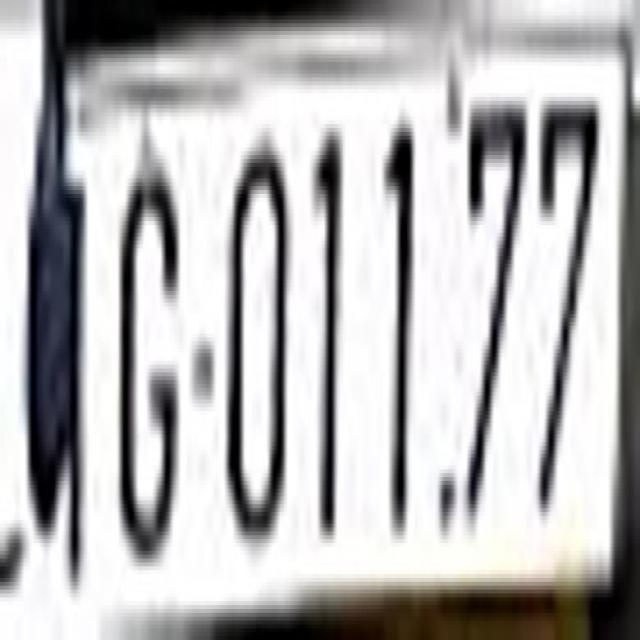0: (224, 120, 288, 516)
1: (307, 128, 340, 547), (382, 101, 411, 535)
7: (536, 81, 600, 532), (468, 100, 526, 524)
G: (120, 155, 178, 559)
